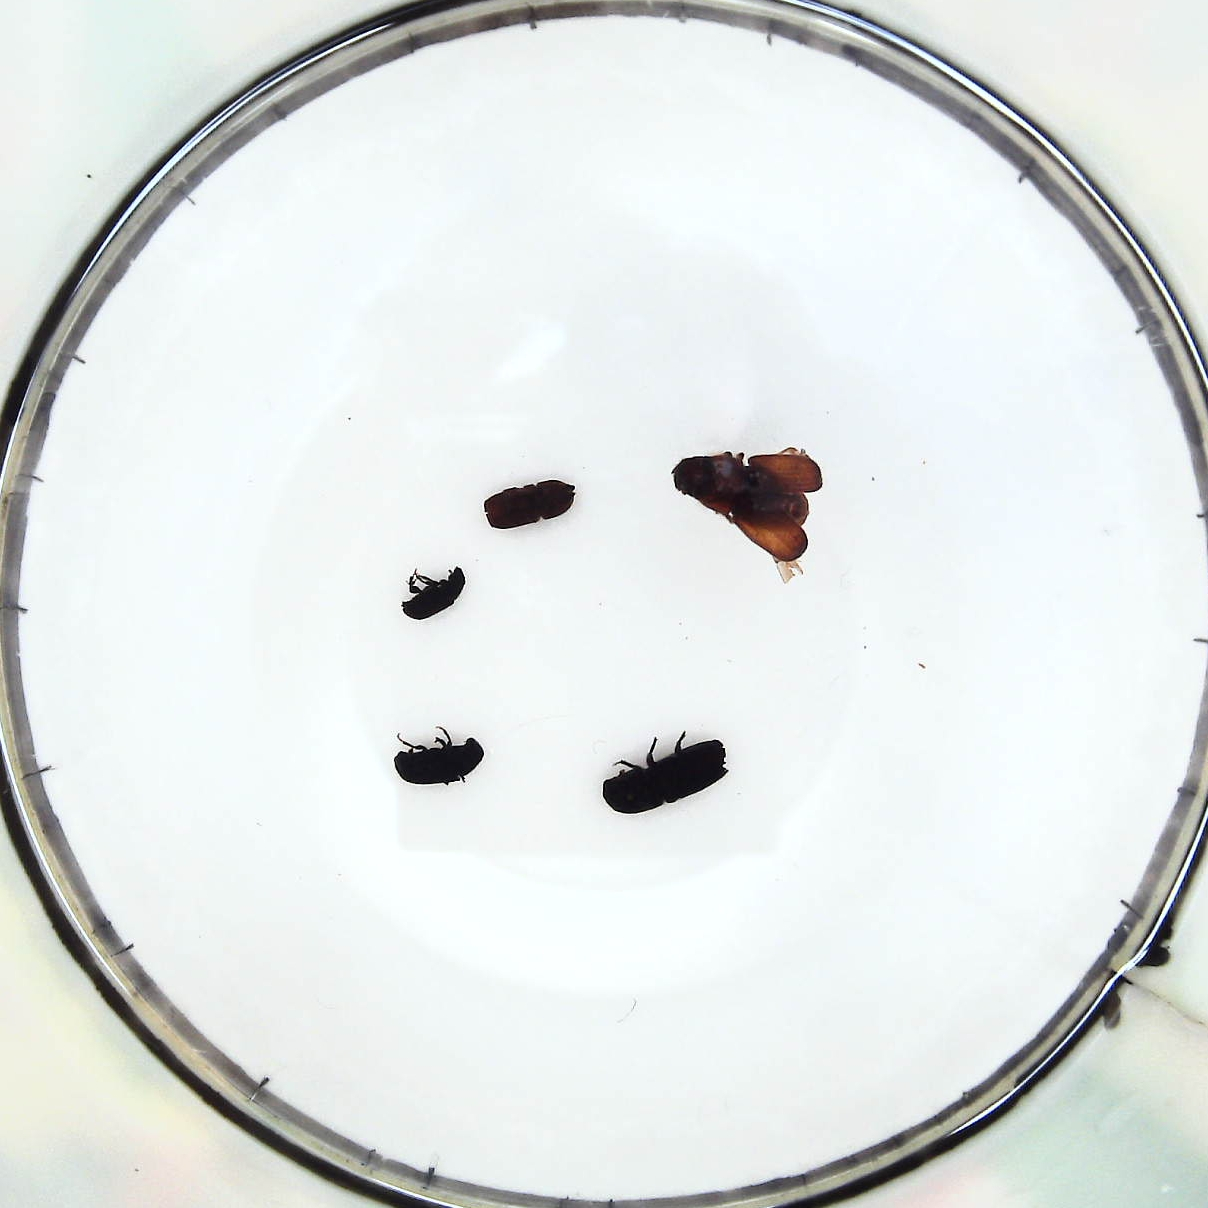Boerner: (598, 741, 725, 812)
Leconte: (673, 447, 820, 574)
Linnaeus: (483, 475, 580, 532)
armandi: (392, 730, 483, 790)
coleoptera: (402, 563, 467, 623)
